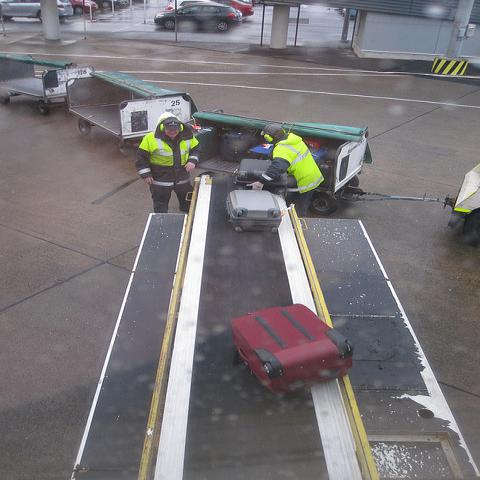car: (153, 3, 243, 32), (0, 0, 121, 21), (212, 0, 255, 17)
